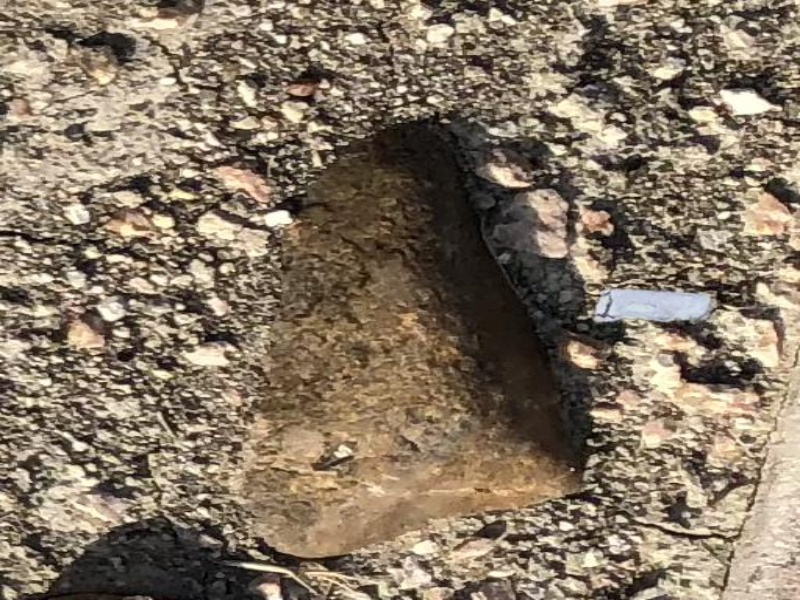cig: (605, 286, 707, 329)
